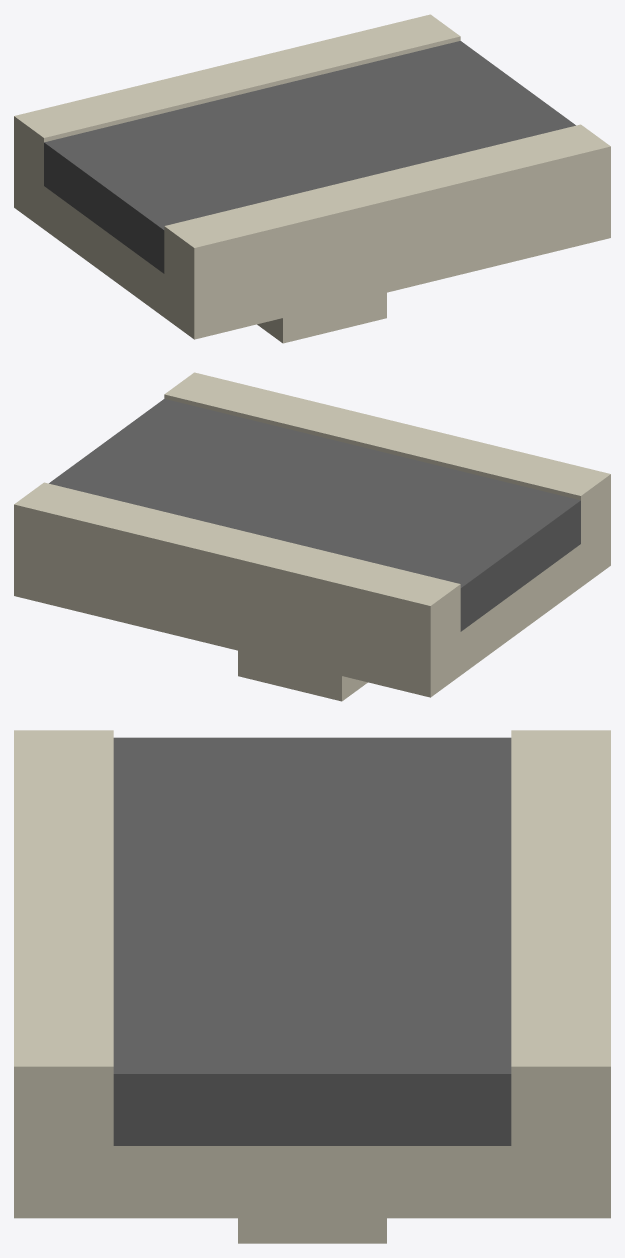
Rendered from road-one-way-stone.obj.
The picture shows the model from 3 angles, top to bottom: view 1: azimuth 30°, elevation 25°; view 2: azimuth 150°, elevation 25°; view 3: azimuth 270°, elevation 25°; orthographic projection. The views are drawn at different scales.
Parts seen in each view (by area): view 1: Mesh1_Group1_Model.292; view 2: Mesh1_Group1_Model.292; view 3: Mesh1_Group1_Model.292.
Boxes of the visible parts, x1=… form: Mesh1_Group1_Model.292: x1=14, y1=14, x2=610, y2=343; Mesh1_Group1_Model.292: x1=14, y1=372, x2=610, y2=701; Mesh1_Group1_Model.292: x1=14, y1=730, x2=610, y2=1243.
Bounding box in the file's own units: 3 × 1.26 × 2.25.
